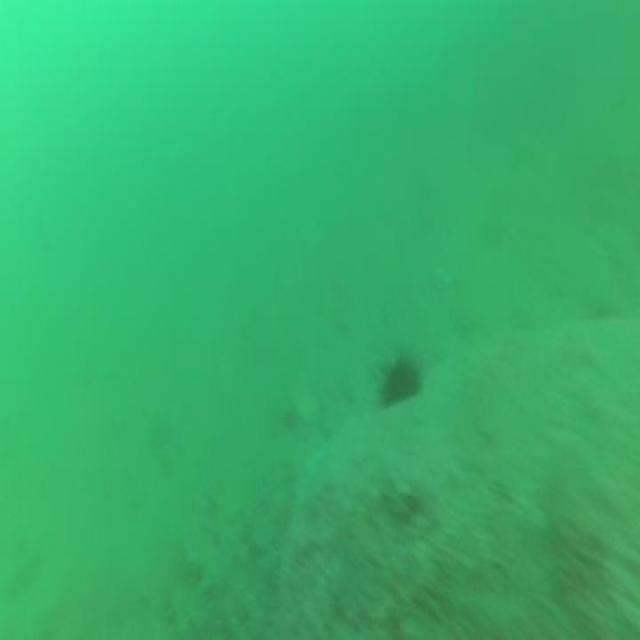echinus: (374, 348, 421, 409)
